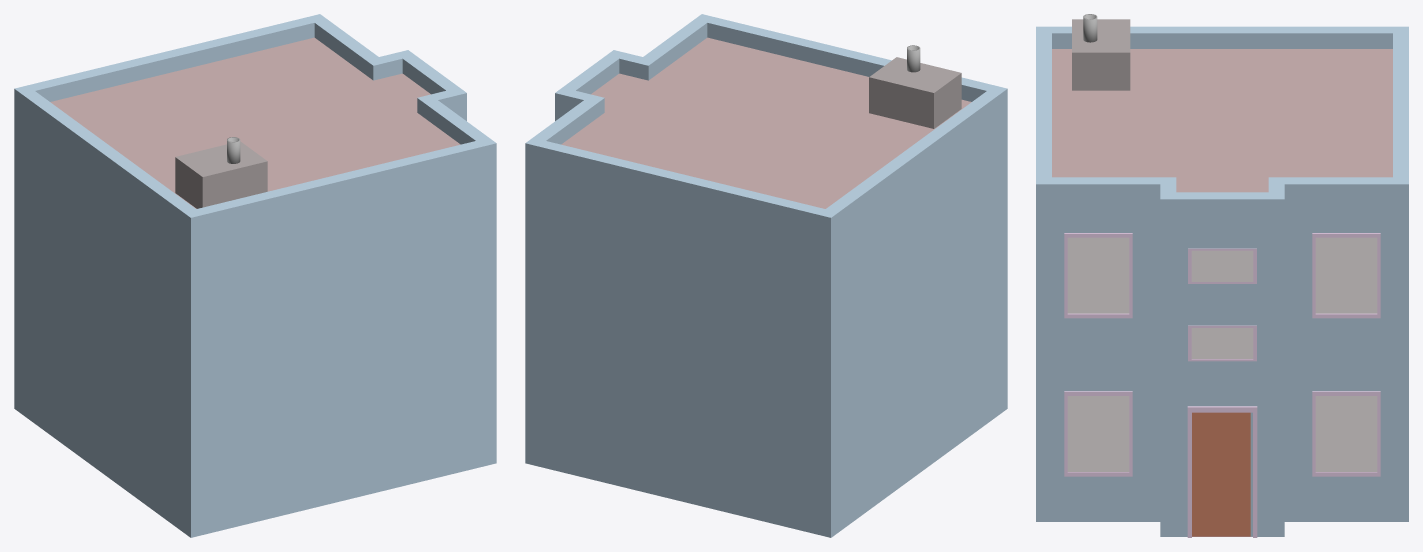
Rendered from haz01_02.fbx.
The picture shows the model from 3 angles, left to right: view 1: azimuth 30°, elevation 25°; view 2: azimuth 150°, elevation 25°; view 3: azimuth 270°, elevation 25°; orthographic projection. The views are drawn at different scales.
Parts seen in each view (by area): view 1: Cube; view 2: Cube; view 3: Cube.
Boxes of the visible parts, x1,y1,x2,y2 form: Cube: (14, 14, 496, 537); Cube: (525, 14, 1007, 537); Cube: (1036, 14, 1408, 537).
Size of the model in its own units: 882 by 906 by 800.
